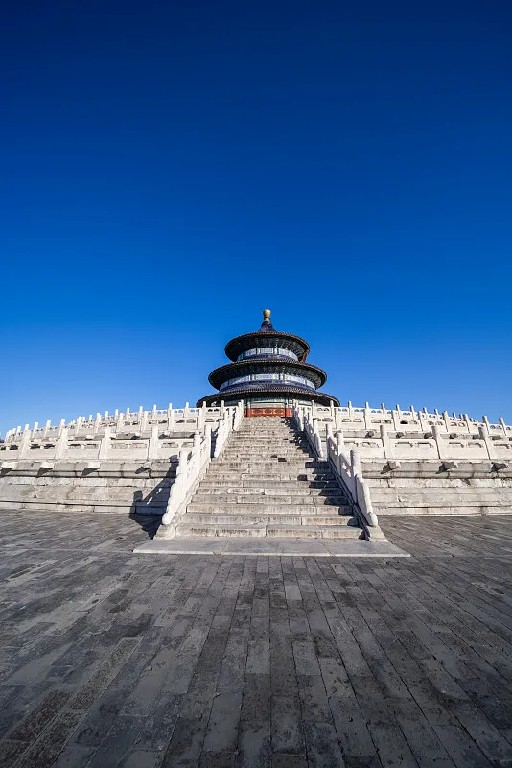Heaven: (195, 309, 341, 420)
